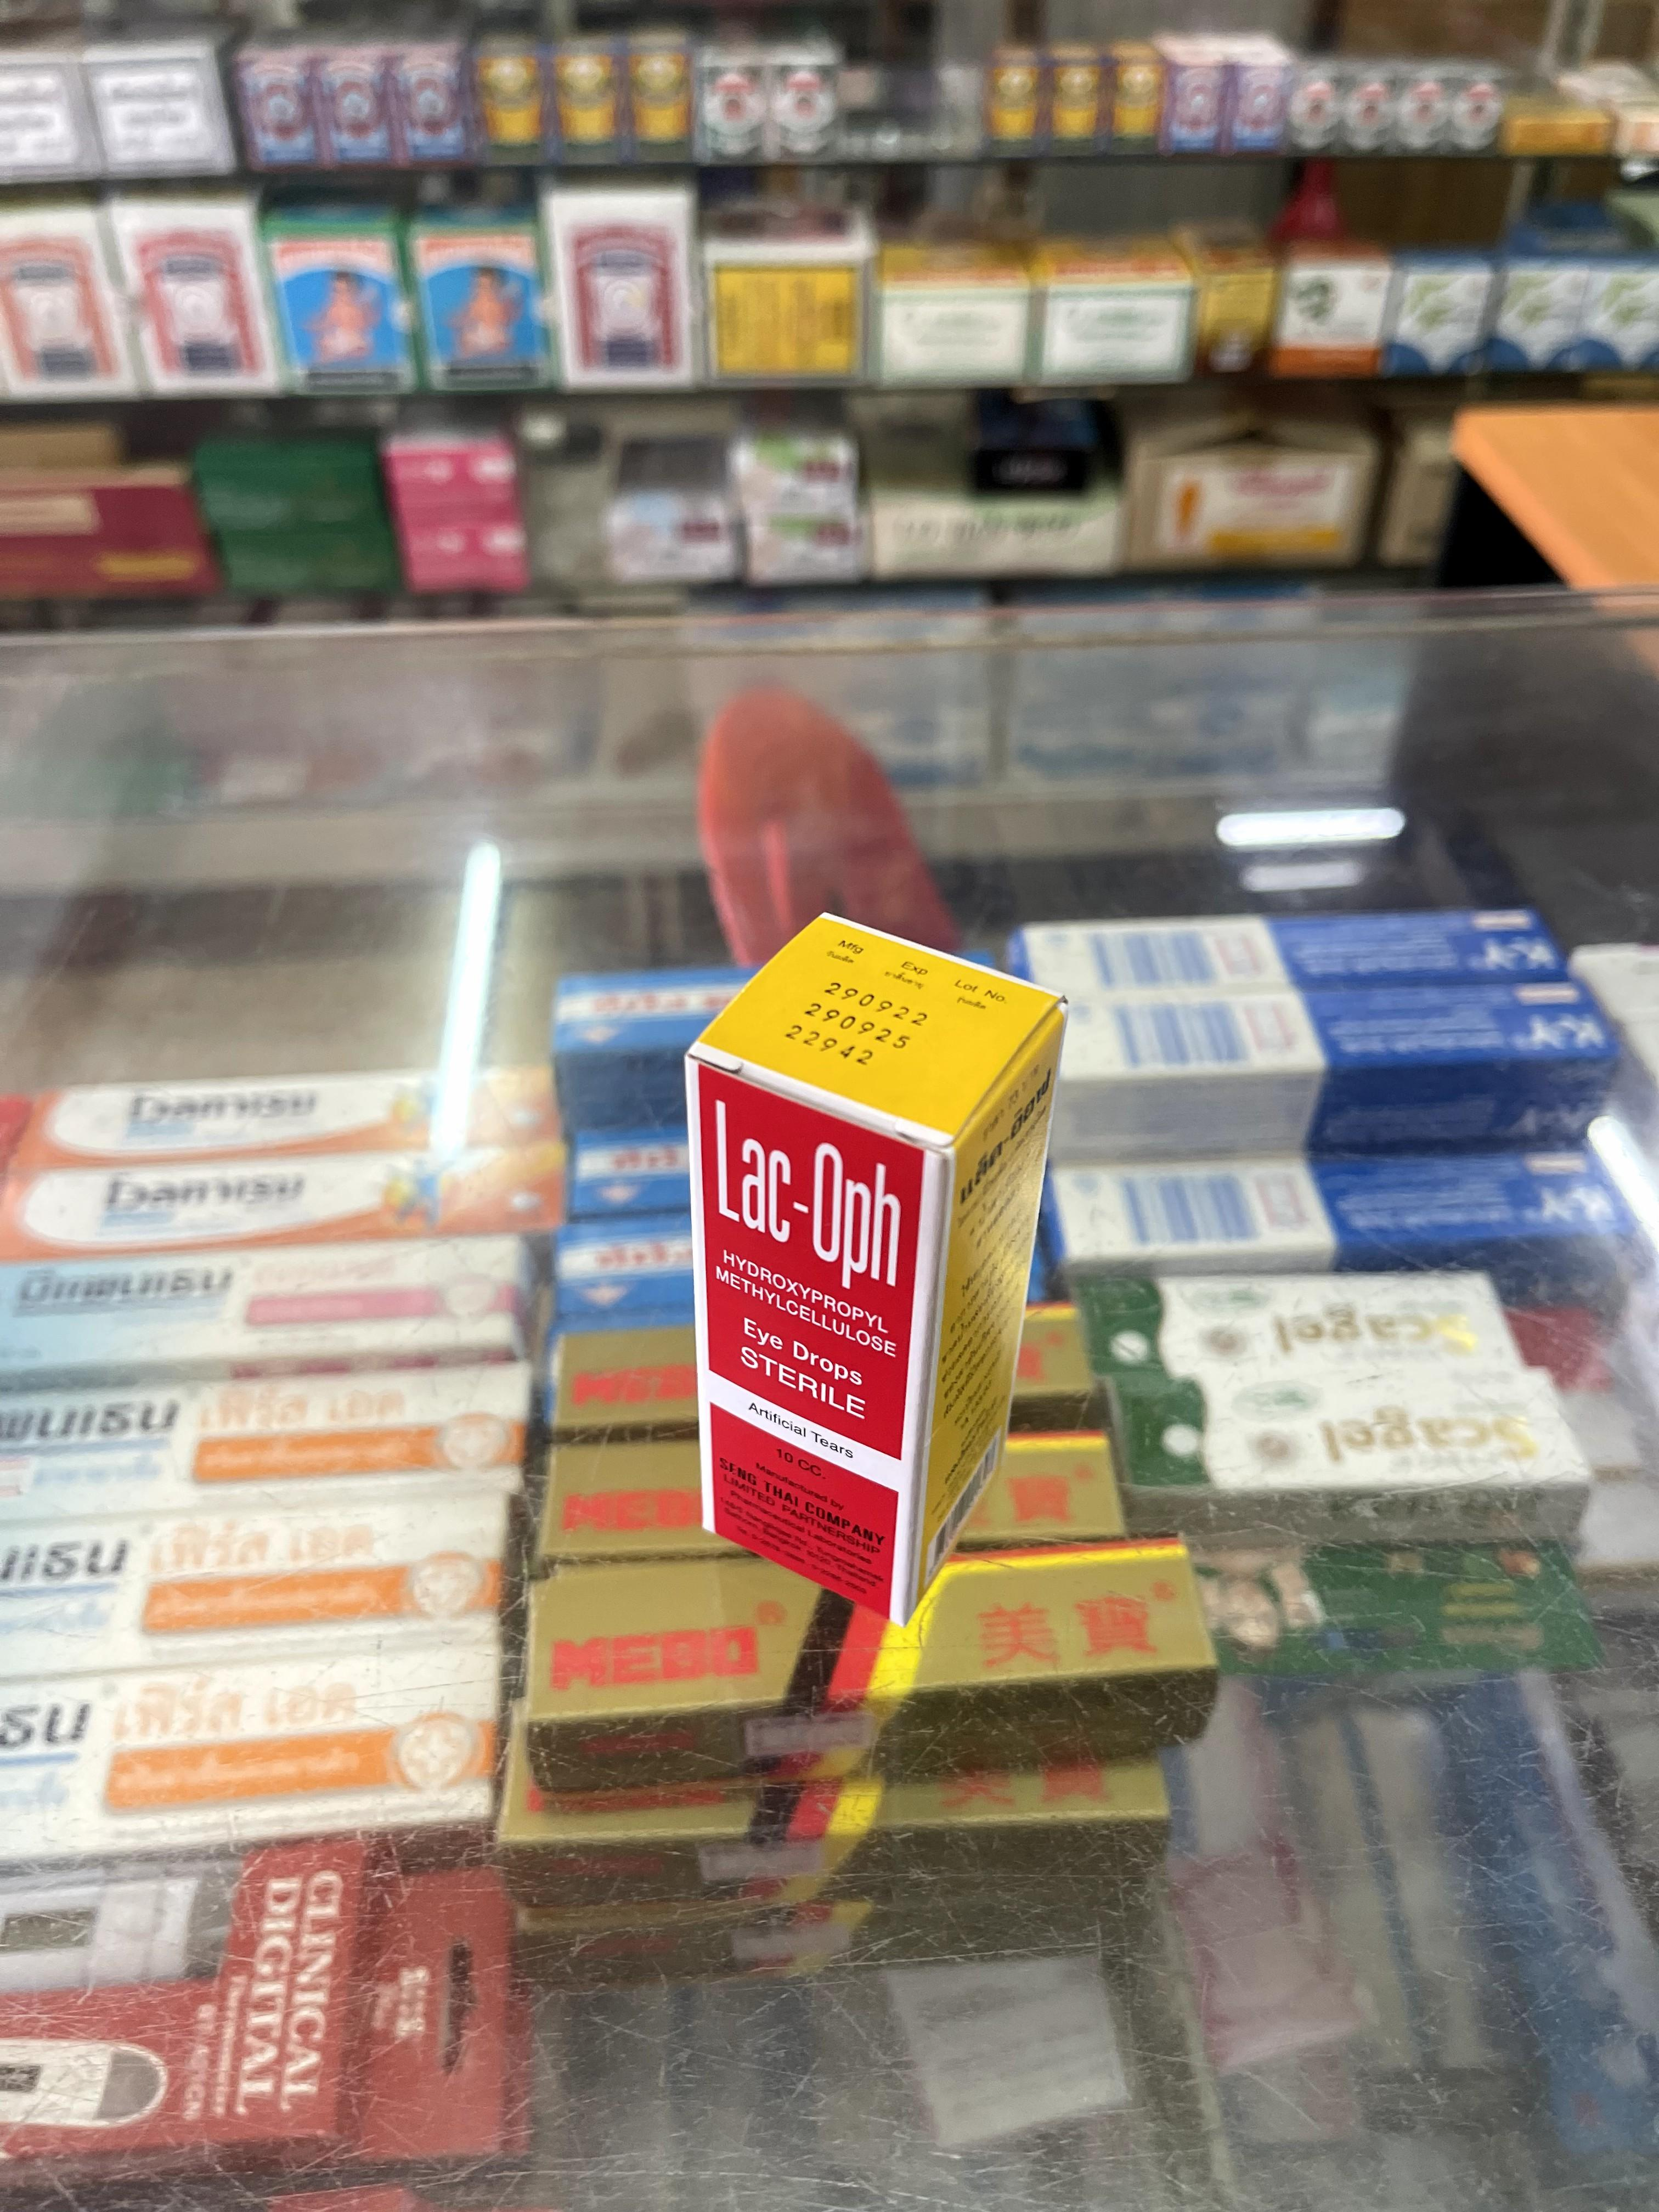Lac-Oph_Red: (681, 909, 1070, 1630)
